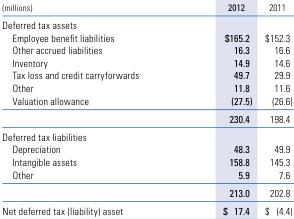table: (1, 0, 291, 216)
table column: (1, 0, 180, 216), (180, 0, 257, 216), (257, 0, 291, 216)
table column header: (1, 0, 291, 15)
table projected row header: (1, 15, 291, 30), (1, 127, 291, 142)
table row: (1, 108, 291, 127), (1, 182, 291, 200), (1, 200, 291, 216), (1, 0, 291, 15), (1, 15, 291, 30), (1, 93, 291, 108), (1, 127, 291, 142), (1, 167, 291, 182), (1, 30, 291, 43), (1, 55, 291, 68), (1, 68, 291, 81), (1, 154, 291, 167), (1, 43, 291, 55), (1, 81, 291, 93), (1, 142, 291, 154)
